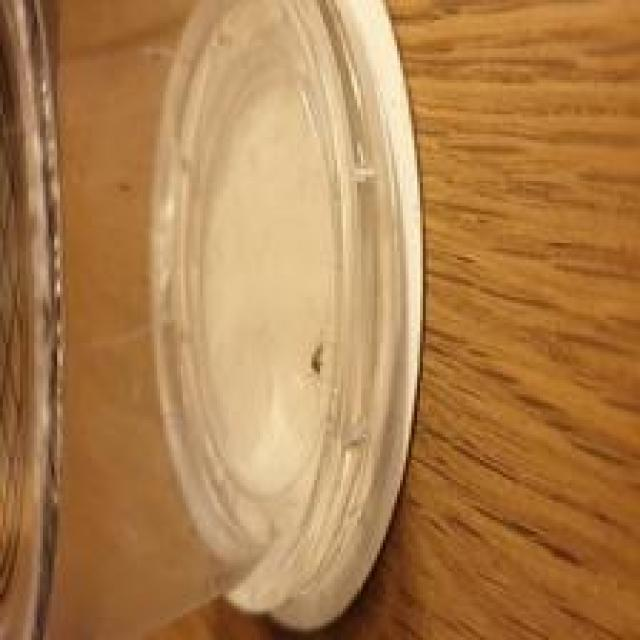Culex: (0, 0, 429, 640)
